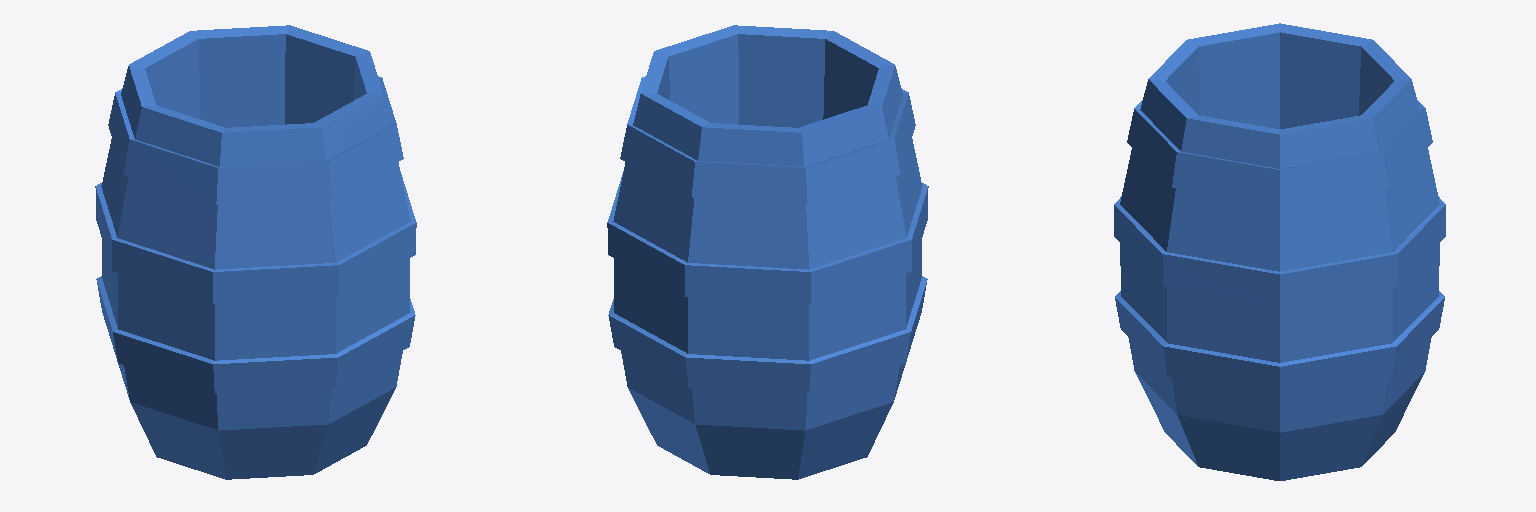
The model's file is Barrel_01.obj.
The picture shows the model from 3 angles: view 1: azimuth 30°, elevation 25°; view 2: azimuth 150°, elevation 25°; view 3: azimuth 270°, elevation 25°; orthographic projection.
Visible parts, largest first — view 1: Cylinder019; view 2: Cylinder019; view 3: Cylinder019.
Part boxes in pixels (bbox=[...]): Cylinder019: bbox=[95, 25, 416, 479]; Cylinder019: bbox=[607, 25, 928, 479]; Cylinder019: bbox=[1114, 23, 1445, 480].
Size of the model in its own units: 0.8915 by 1.05 by 0.8916.